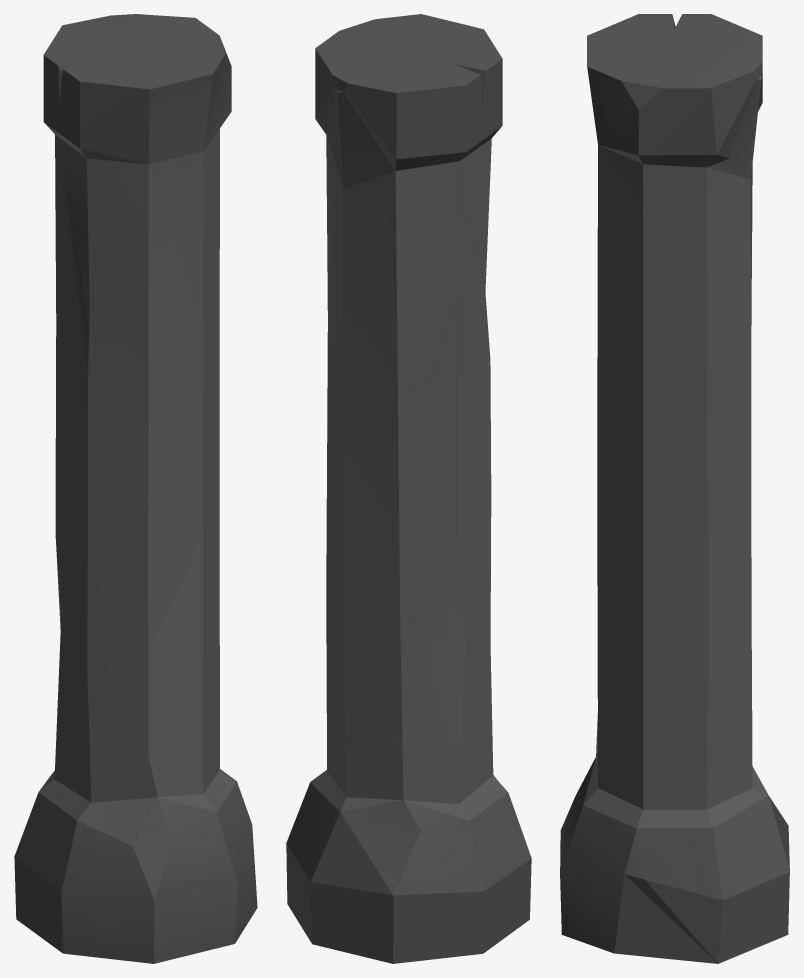
File: Column_03.fbx
3 renders of one model, left to right at view 1: azimuth 30°, elevation 25°; view 2: azimuth 150°, elevation 25°; view 3: azimuth 270°, elevation 25°, orthographic.
Parts seen in each view (by area): view 1: Column_03_LOD0; view 2: Column_03_LOD0; view 3: Column_03_LOD0.
Part boxes in pixels (<box>): Column_03_LOD0: <box>14,14,257,963</box>; Column_03_LOD0: <box>286,14,531,963</box>; Column_03_LOD0: <box>560,14,789,963</box>.
Size of what is drawn, in the model's own units: 0.6971 by 2.87 by 0.6924.
